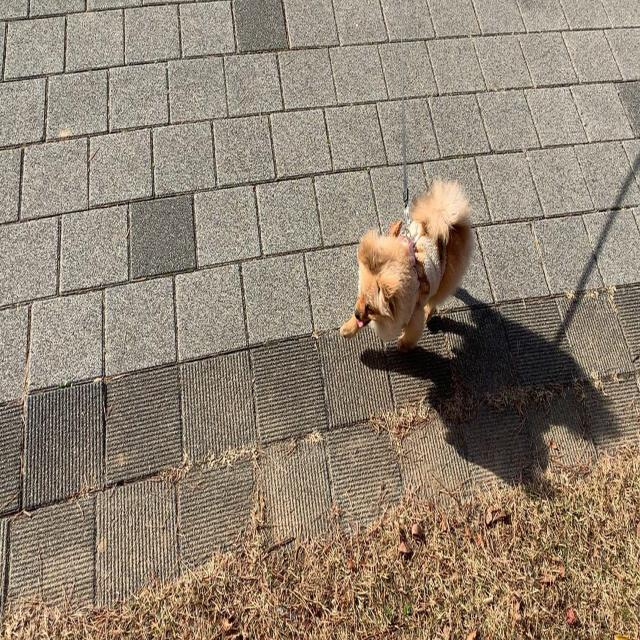Dog: (339, 170, 476, 356)
